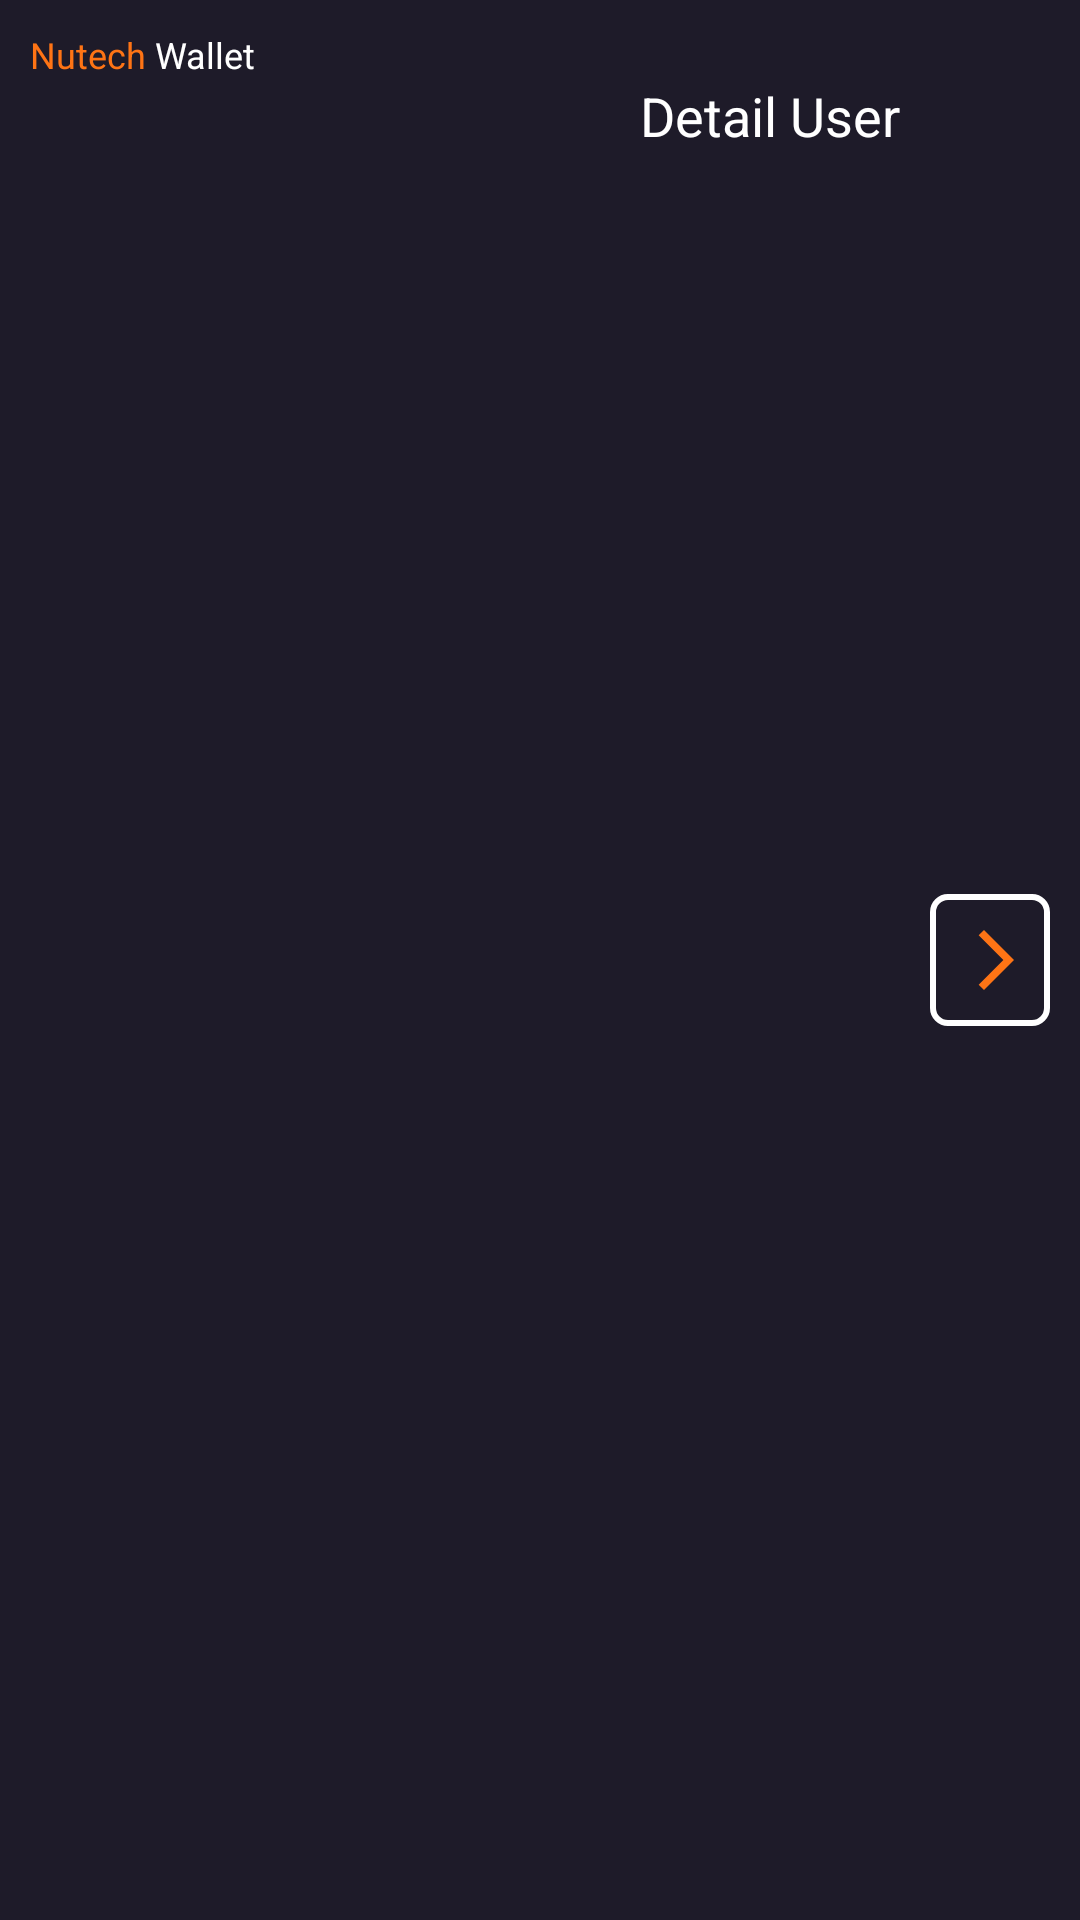

Icon bounding boxes for this 1080w x 1920h phone screenshot, format (x1=x1, y1=y1, x2=x2, y2=y2):
arrow forward: (x1=930, y1=894, x2=1050, y2=1026)
